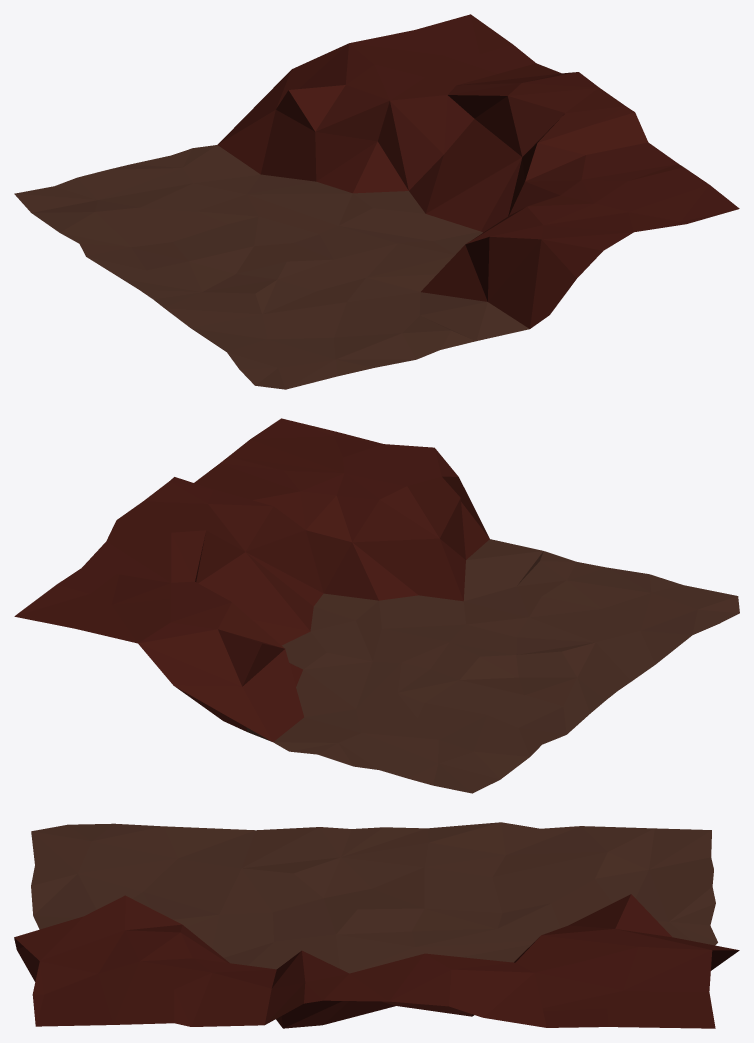
Rendered from red_rock_terrain.glb.
3 renders of one model, top to bottom at view 1: azimuth 30°, elevation 25°; view 2: azimuth 150°, elevation 25°; view 3: azimuth 270°, elevation 25°, orthographic. The views are drawn at different scales.
Parts seen in each view (by area): view 1: Plane; view 2: Plane; view 3: Plane.
Part boxes in pixels (x1=…): Plane: x1=14, y1=14, x2=739, y2=389; Plane: x1=14, y1=418, x2=739, y2=793; Plane: x1=14, y1=822, x2=739, y2=1028.
Size of the model in its own units: 102 by 19 by 107.
